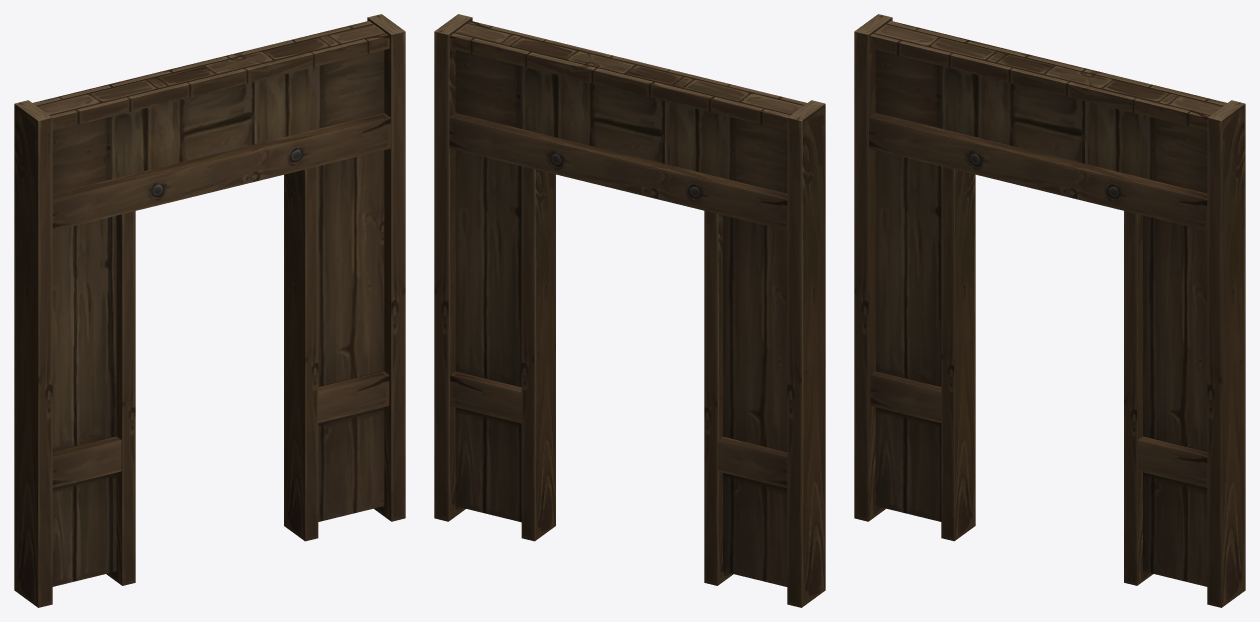
File: mf_door021w.FBX
3 views of the same model, side by side, from view 1: azimuth 30°, elevation 25°; view 2: azimuth 150°, elevation 25°; view 3: azimuth 330°, elevation 25° (orthographic).
Visible parts, largest first — view 1: mf_door021w; view 2: mf_door021w; view 3: mf_door021w.
Part boxes in pixels (x1,y1,x2,y2): mf_door021w: (14, 14, 405, 607); mf_door021w: (434, 14, 825, 607); mf_door021w: (854, 14, 1245, 607).
Bounding box in the file's own units: 1.99 × 2.52 × 0.2251.
Materials: 1 (1 with a texture image).
